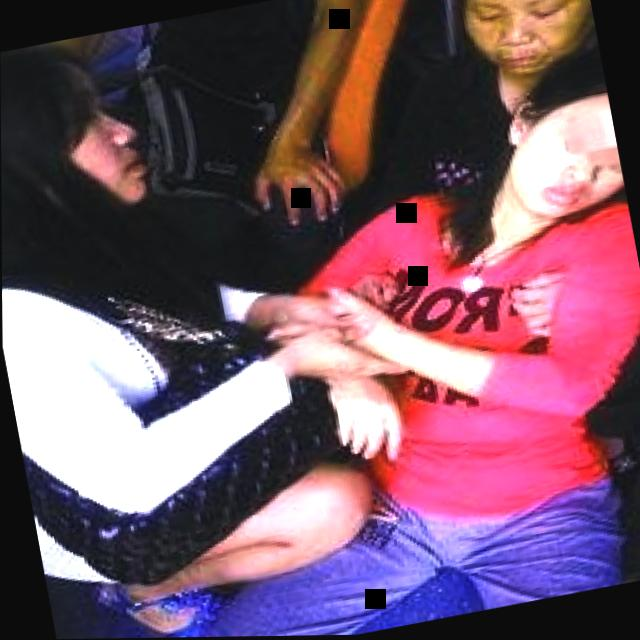Fall-Detected: (0, 58, 640, 640)
